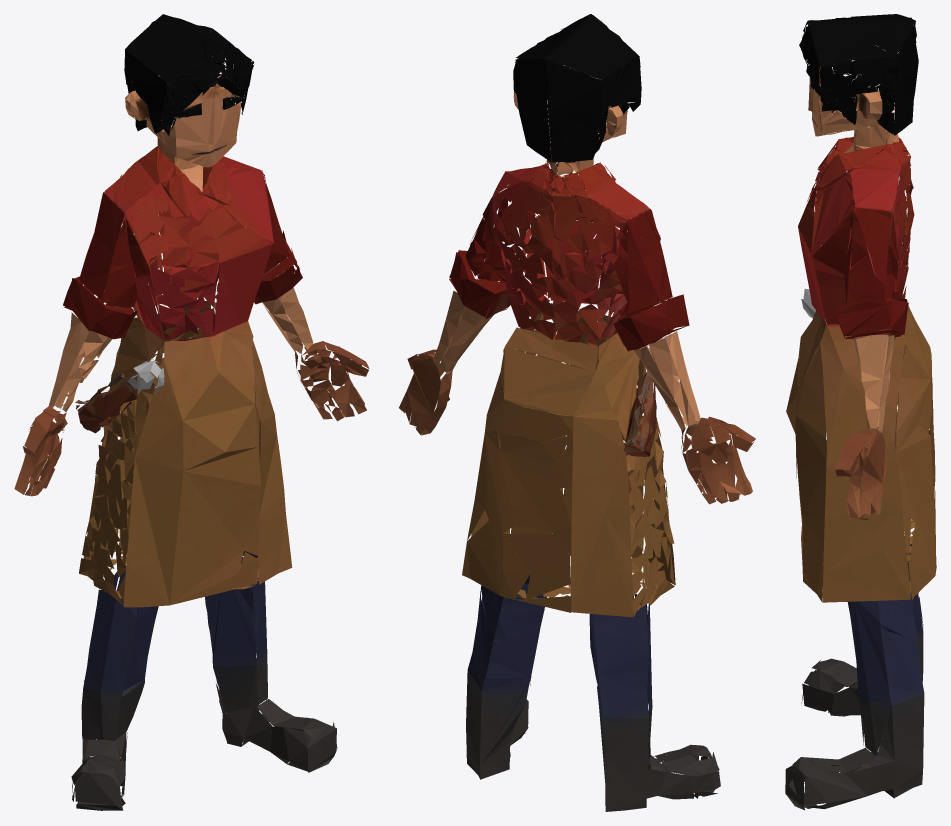
File: habitant.glb
3 views of the same model, side by side, from view 1: azimuth 30°, elevation 25°; view 2: azimuth 150°, elevation 25°; view 3: azimuth 270°, elevation 25° (orthographic).
Parts seen in each view (by area): view 1: world; view 2: world; view 3: world.
Boxes of the visible parts, x1=… form: world: x1=14, y1=14, x2=369, y2=810; world: x1=399, y1=14, x2=755, y2=811; world: x1=785, y1=14, x2=936, y2=810.
Size of the model in its own units: 0.5 by 1 by 0.186.
Materials: 1 (1 with a texture image).
